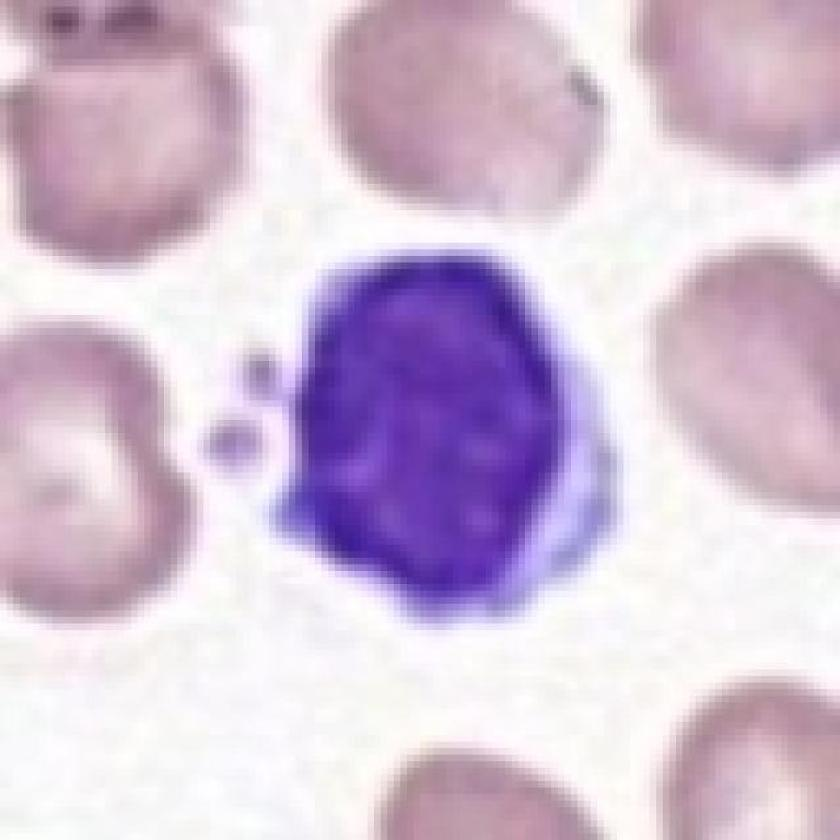lymphocyte: (265, 242, 626, 633)
